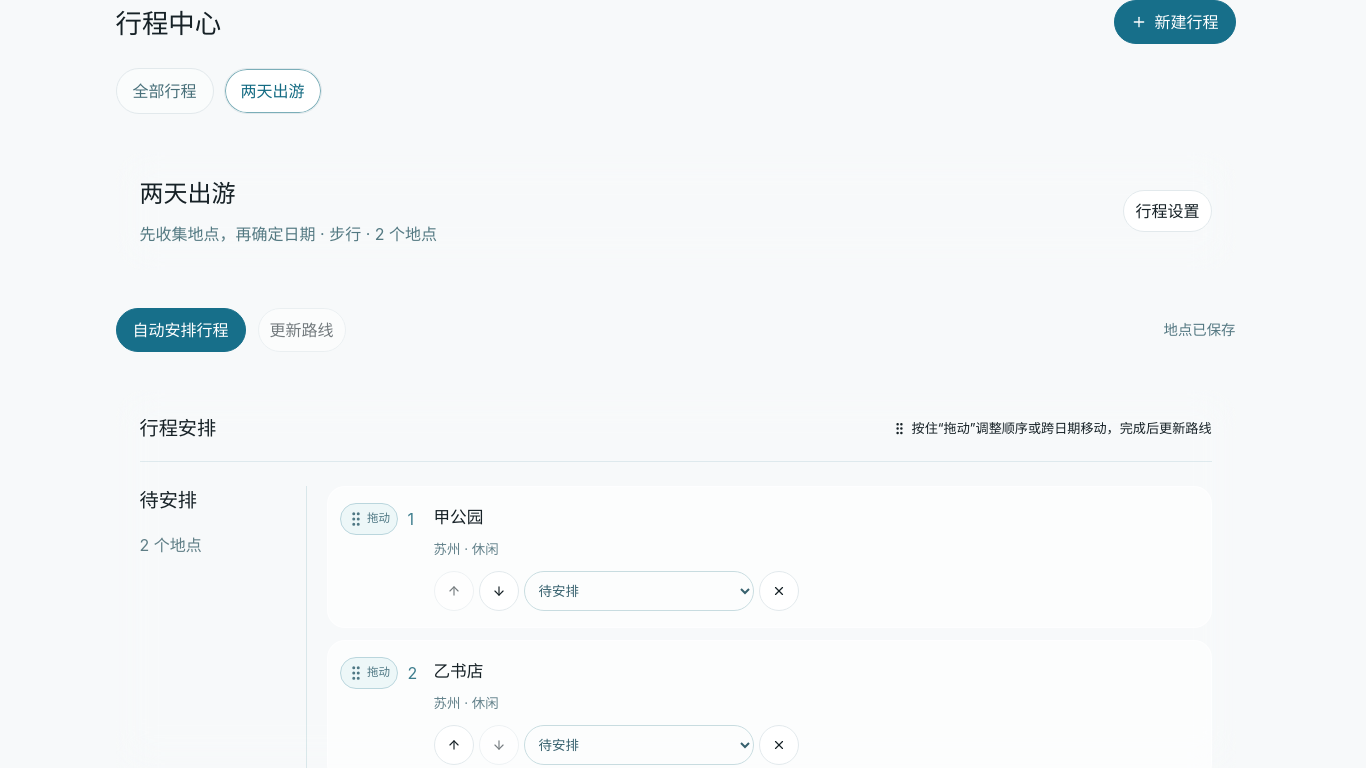
Scenario: continues an explicit automatic arrangement once using the saved settings revision
Click the button "自动安排行程" at (180, 330), box [116,308,246,352]
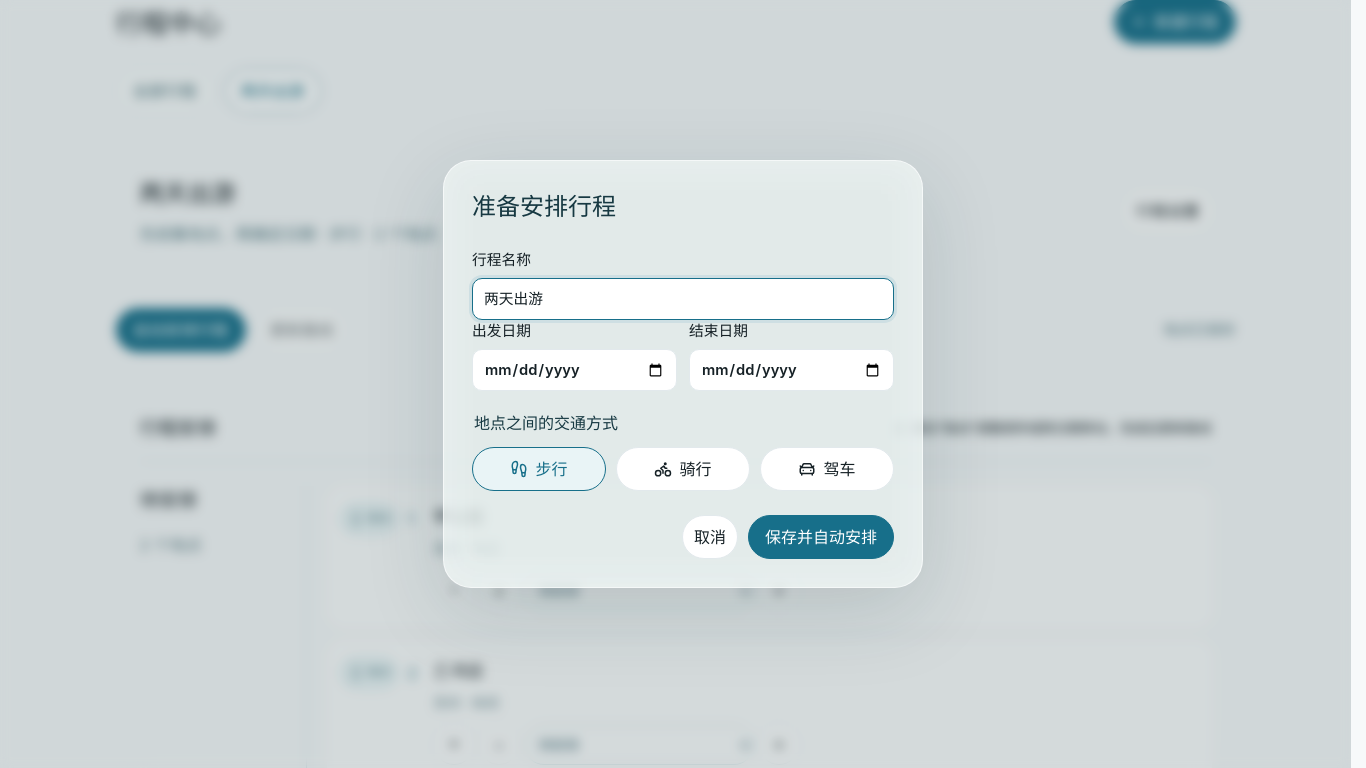
Type "2026-10-26" into the date field labelled "出发日期" at (574, 370), box [472,349,677,391]
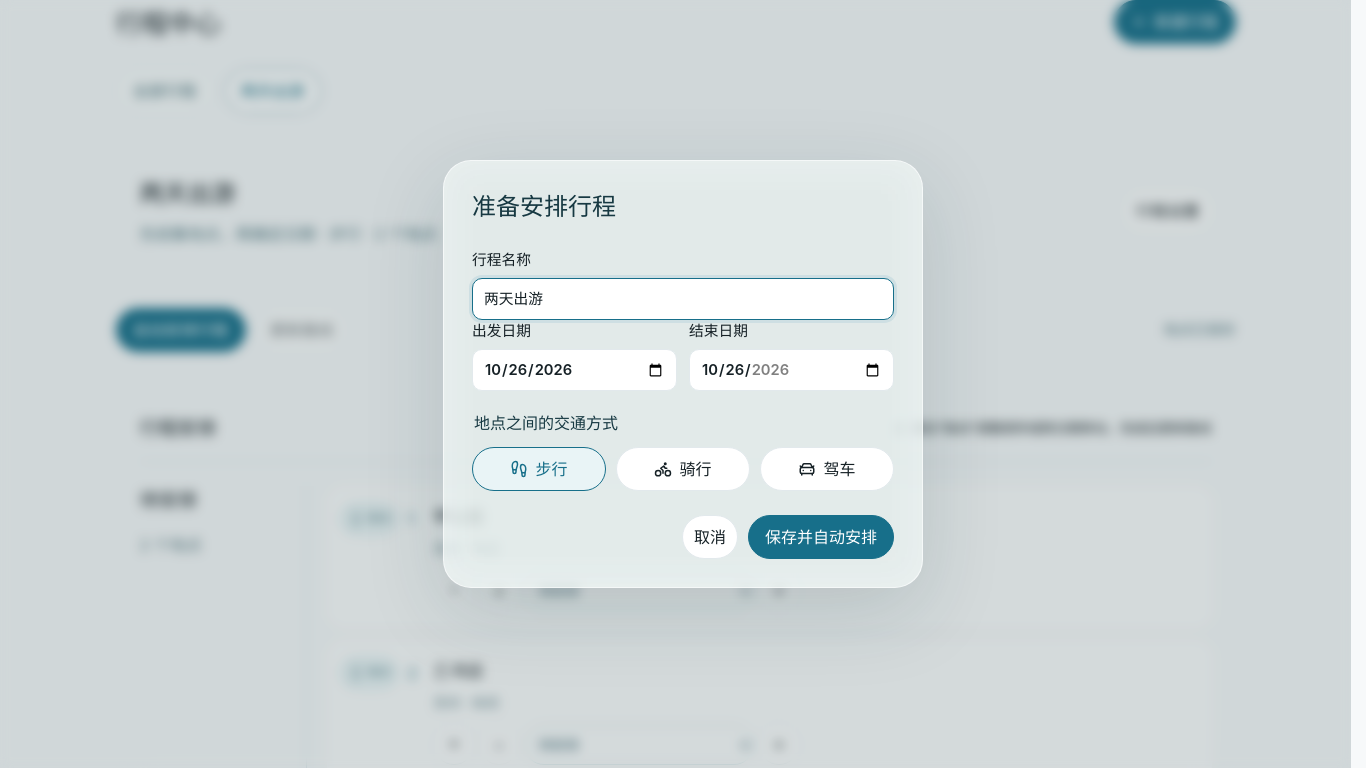
Expected: the date field labelled "结束日期" holds "2026-10-26"
Type "2026-10-27" into the date field labelled "结束日期" at (792, 370), box [689,349,894,391]
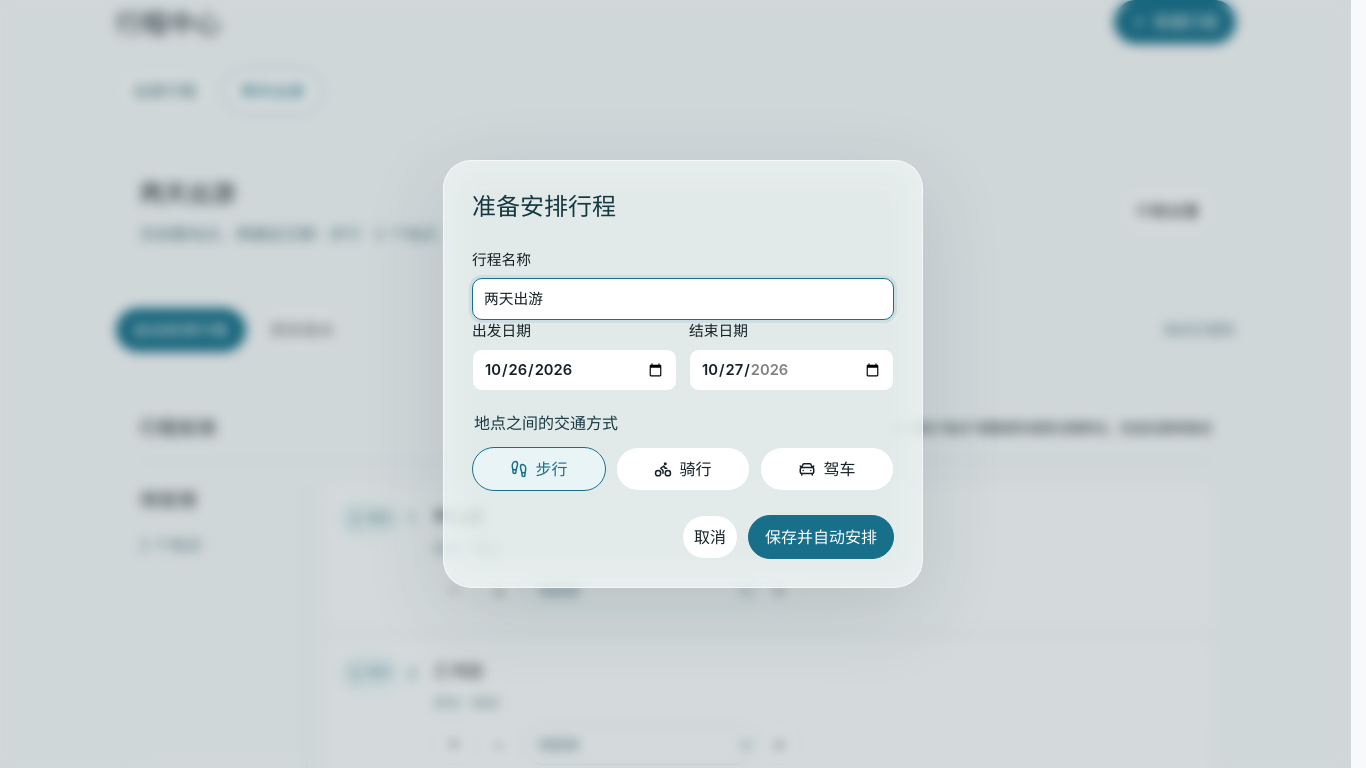
Click the radio button labelled "驾车" at (827, 469), box [760,447,894,491]
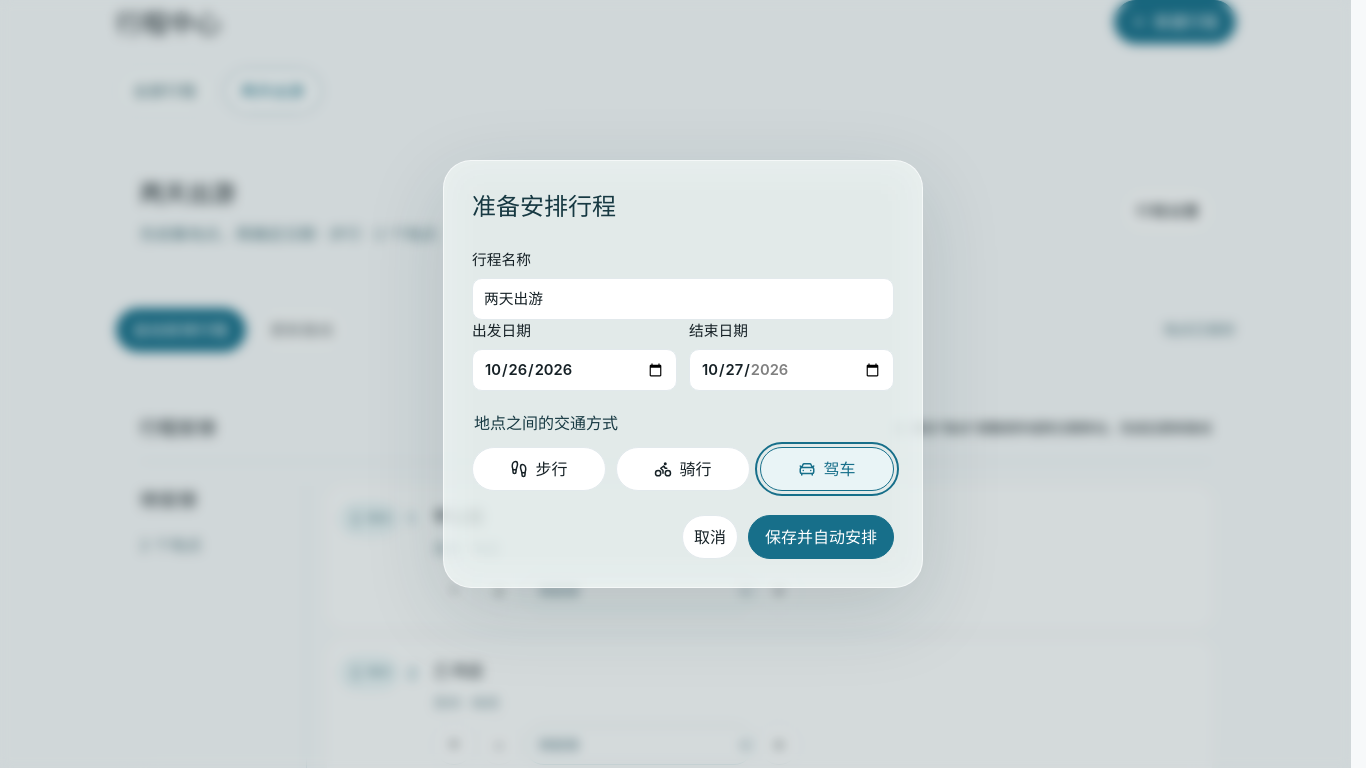
Click the button "保存并自动安排" at (821, 537), box [748,515,894,559]
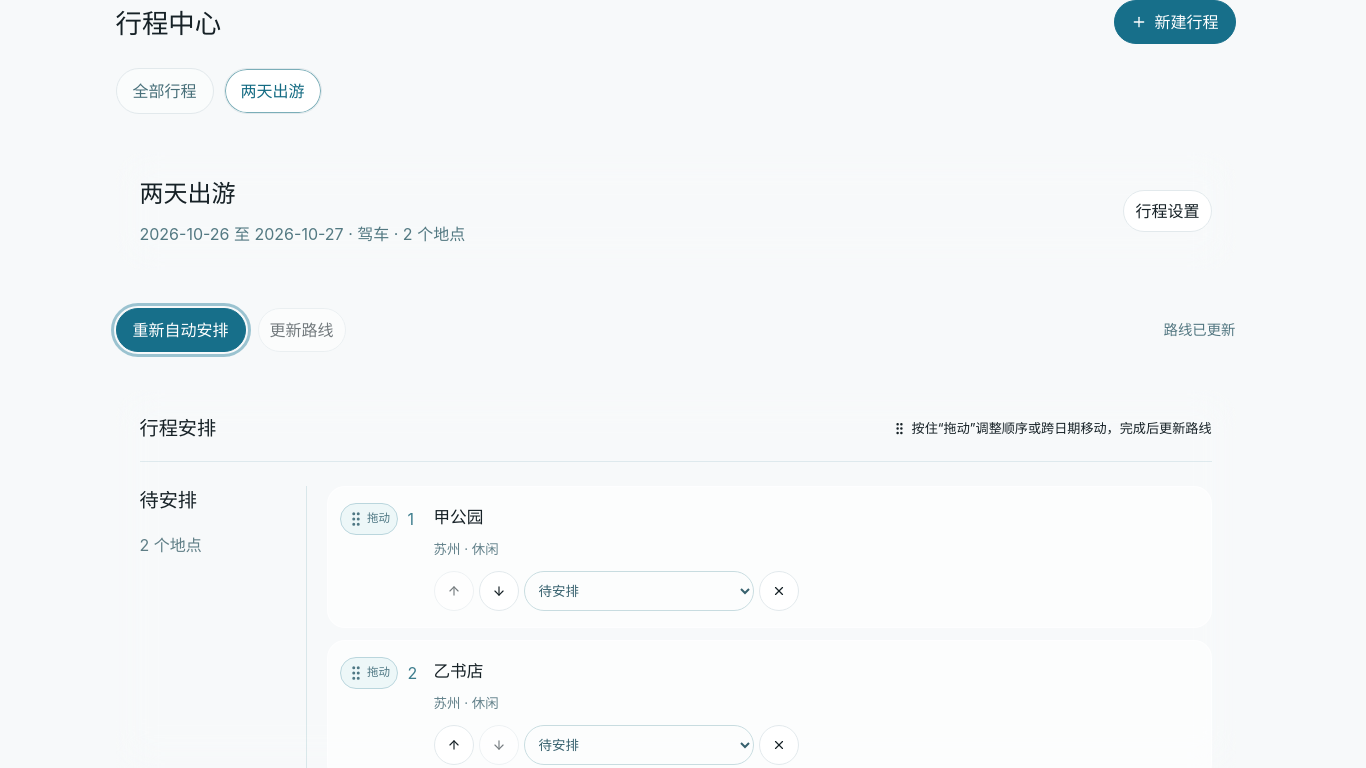
Expected: the text "路线已更新" is shown, [1164,319,1236,341]
